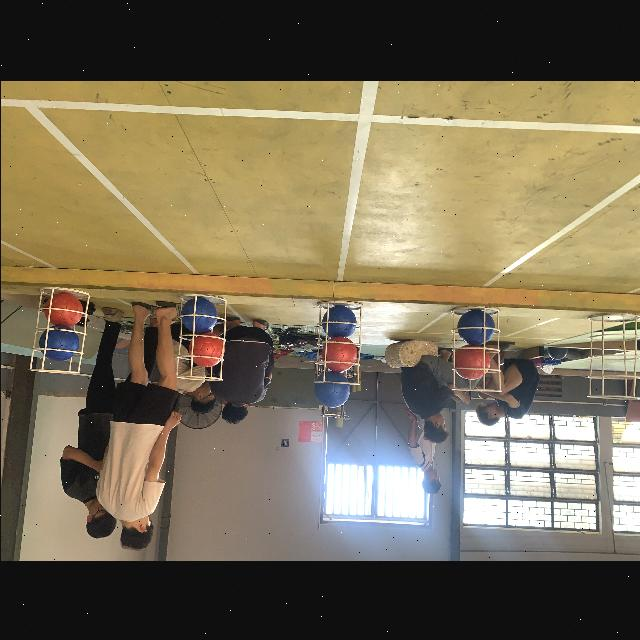B: (39, 324, 79, 362), (179, 296, 217, 334), (456, 307, 494, 343), (314, 372, 351, 406), (320, 304, 356, 338)
R: (452, 342, 491, 380), (320, 334, 358, 370), (187, 332, 225, 366), (44, 292, 82, 326)
